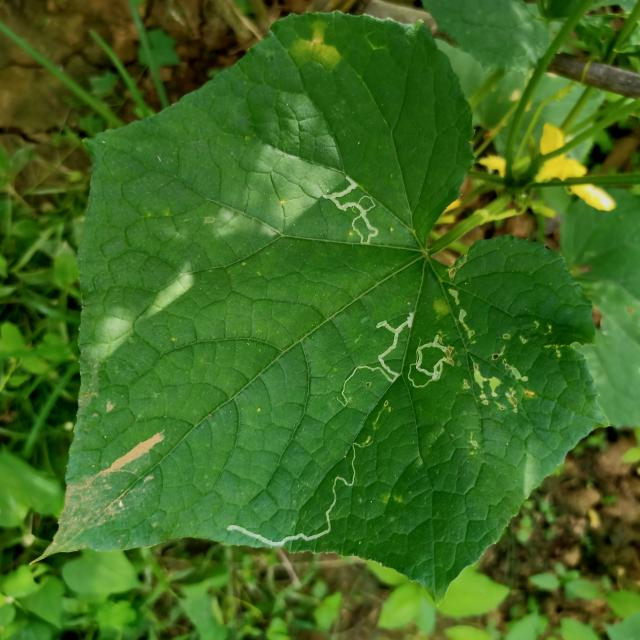disease_cucumber: (294, 18, 344, 68)
